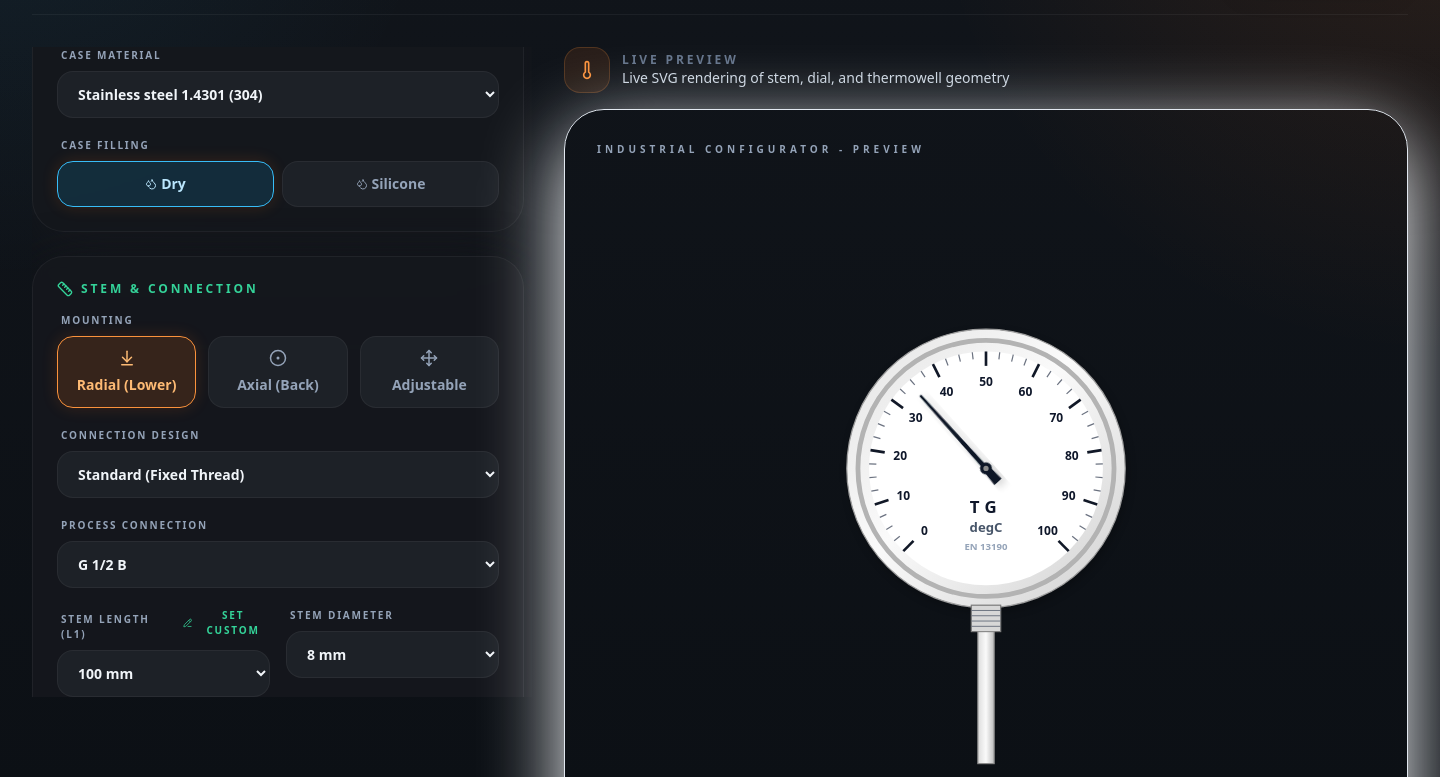
ConfiguratorPage › updates preview badges when connection switches to back
(page scrolled)
Click the button "Axial (Back)".
click(278, 372)  # box [208, 336, 348, 408]
(page scrolled)
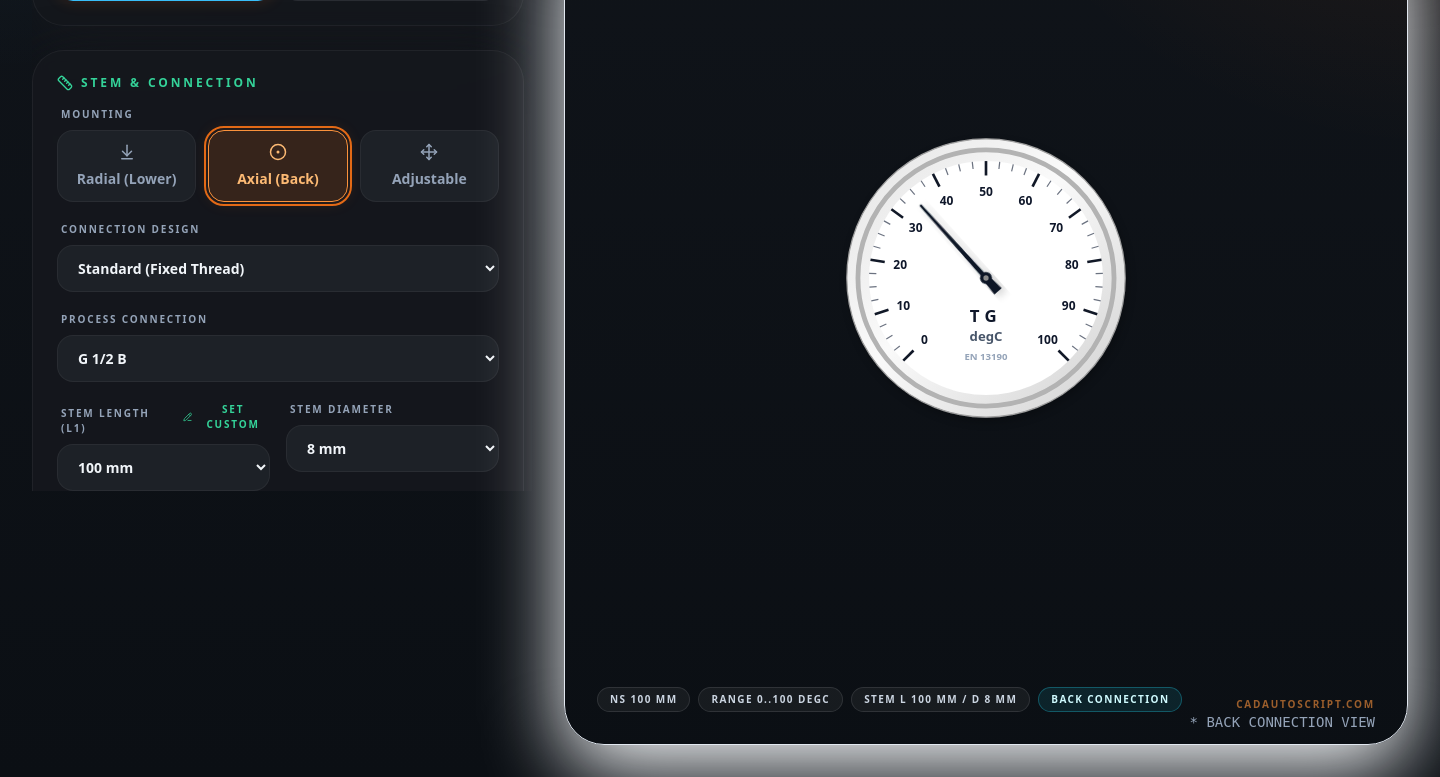
Expected: the text "Back connection" is shown, [1038, 687, 1182, 712]
